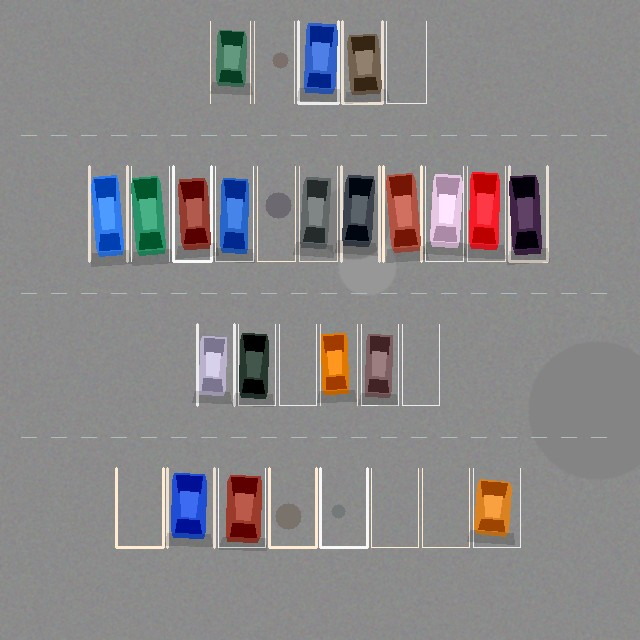space-empty: (116, 468, 163, 547), (269, 468, 316, 547), (320, 468, 367, 547), (371, 468, 418, 547), (422, 468, 469, 547), (257, 166, 295, 261), (254, 21, 294, 103), (386, 21, 426, 103), (279, 324, 316, 405), (402, 324, 439, 405)
space-occupied: (167, 468, 214, 547), (218, 468, 265, 547), (473, 468, 520, 547), (89, 166, 127, 261), (131, 166, 169, 261), (173, 166, 211, 261), (215, 166, 253, 261), (299, 166, 337, 261), (341, 166, 379, 261), (383, 166, 421, 261), (425, 166, 463, 261), (467, 166, 505, 261), (509, 166, 547, 261), (210, 21, 250, 103), (298, 21, 338, 103), (342, 21, 382, 103), (197, 324, 234, 405), (238, 324, 275, 405), (320, 324, 357, 405), (361, 324, 398, 405)
